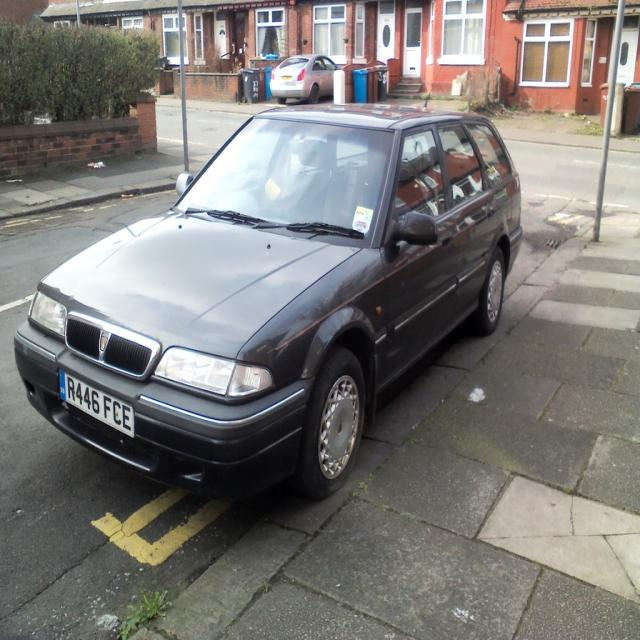car: (12, 91, 527, 502), (268, 49, 340, 104)
